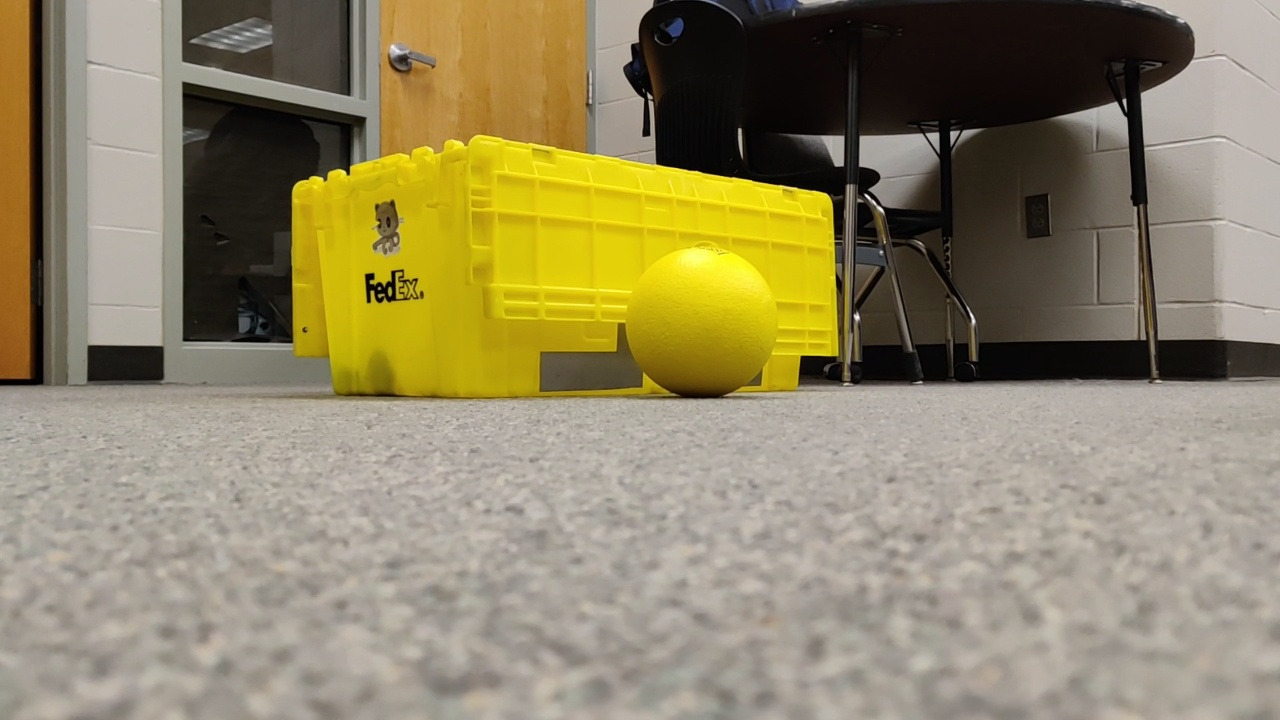Ball: (620, 245, 783, 399)
